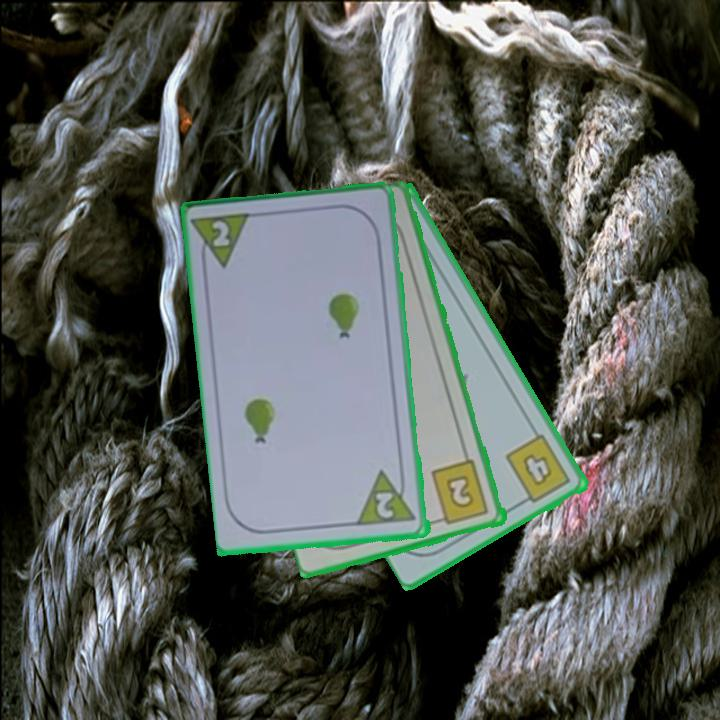2b: (428, 457, 492, 528)
2p: (191, 209, 256, 275), (372, 489, 397, 522)
4b: (502, 431, 575, 508)
